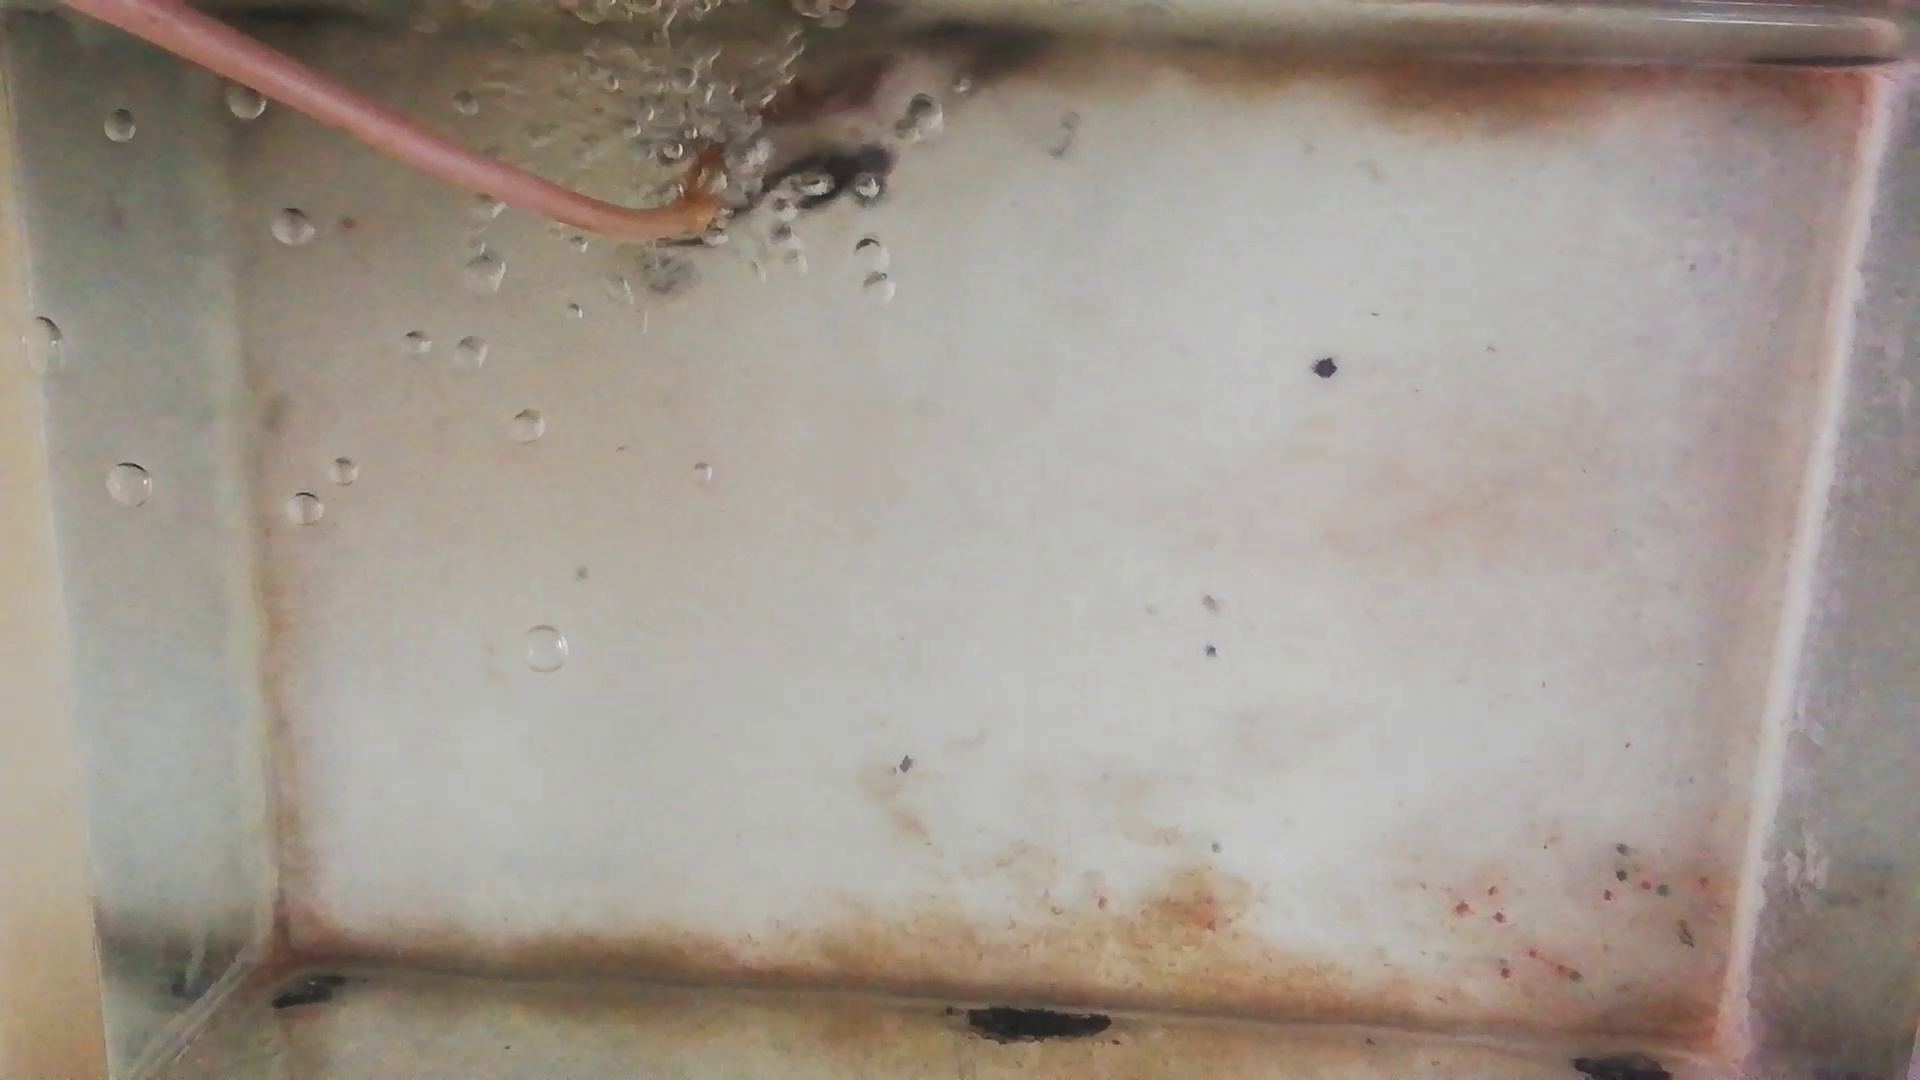fish: (744, 145, 901, 216), (742, 53, 887, 123)
